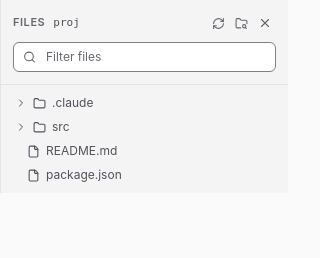
it: FilesPanel — tree › loads a folder's children when it is expanded and hides them when collapsed
The image size is (320, 258).
Step 1. Click the button "src" → (21, 127), box [7,115,282,139]
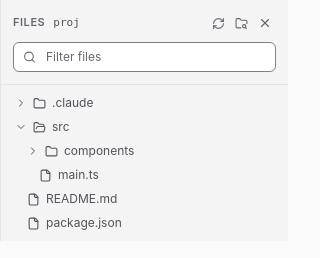
Expected: the list item "src" is expanded, [7,115,282,187]
Step 2. Click the button "src" → (21, 127), box [7,115,282,139]
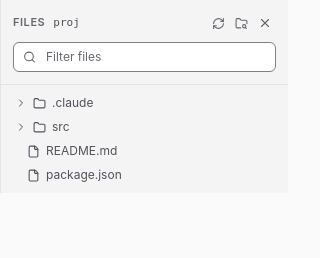
Expected: the list item "src" is collapsed, [7,115,282,139]
Expected: the button "main.ts" is gone
